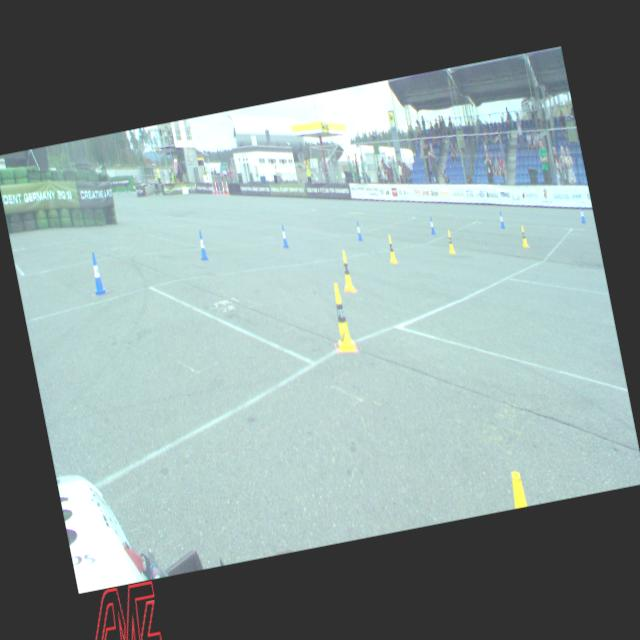blue_cone: (88, 251, 106, 294), (196, 230, 207, 260), (280, 225, 289, 248), (354, 220, 362, 240), (428, 217, 436, 234), (579, 207, 586, 223), (498, 210, 504, 228), (118, 190, 120, 194), (128, 190, 130, 194), (126, 190, 128, 193)
large_orange_cone: (222, 179, 226, 195), (226, 179, 230, 195), (214, 180, 218, 194), (219, 184, 222, 195), (212, 184, 214, 194)
yellow_cone: (328, 282, 356, 354), (508, 472, 528, 508), (338, 250, 355, 292), (386, 235, 397, 264), (519, 225, 529, 248), (446, 230, 455, 253)
